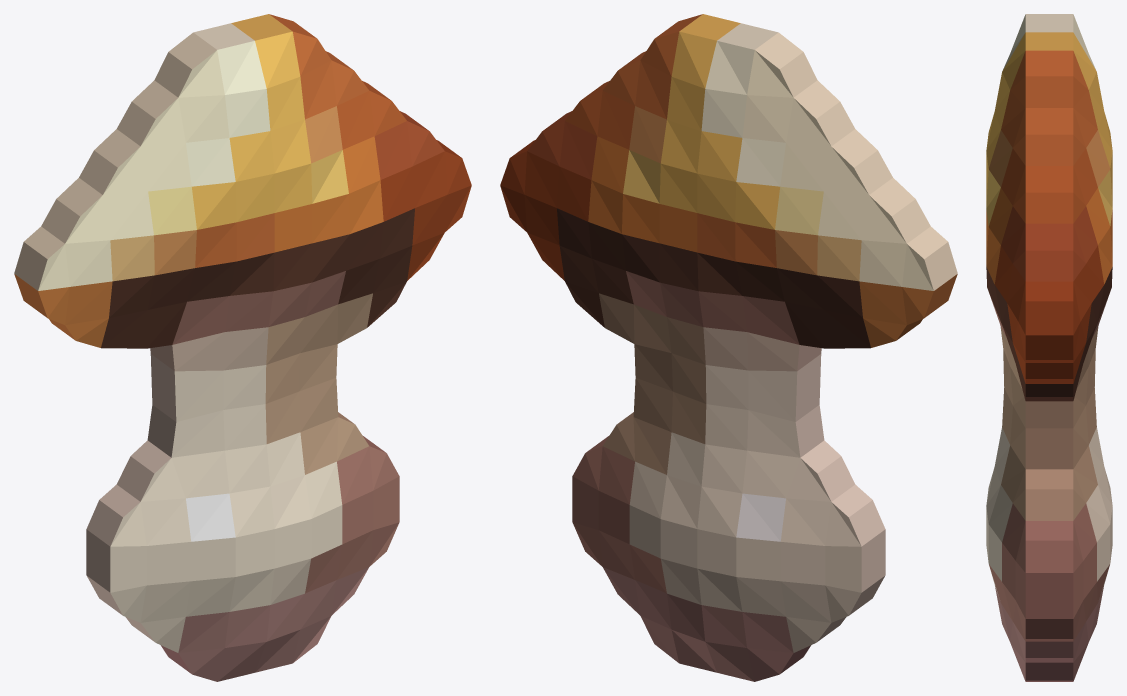
Rendered from glowcap_mushroom.glb.
3 renders of one model, left to right at view 1: azimuth 30°, elevation 25°; view 2: azimuth 150°, elevation 25°; view 3: azimuth 270°, elevation 25°, orthographic.
Parts seen in each view (by area): view 1: glowcap_mushroom; view 2: glowcap_mushroom; view 3: glowcap_mushroom.
Part boxes in pixels (x1,y1,x2,y2): glowcap_mushroom: [14, 14, 471, 681]; glowcap_mushroom: [500, 14, 957, 681]; glowcap_mushroom: [986, 14, 1112, 681].
Bounding box in the file's own units: 0.7182 × 1 × 0.1813.
1 material, 1 textured.
